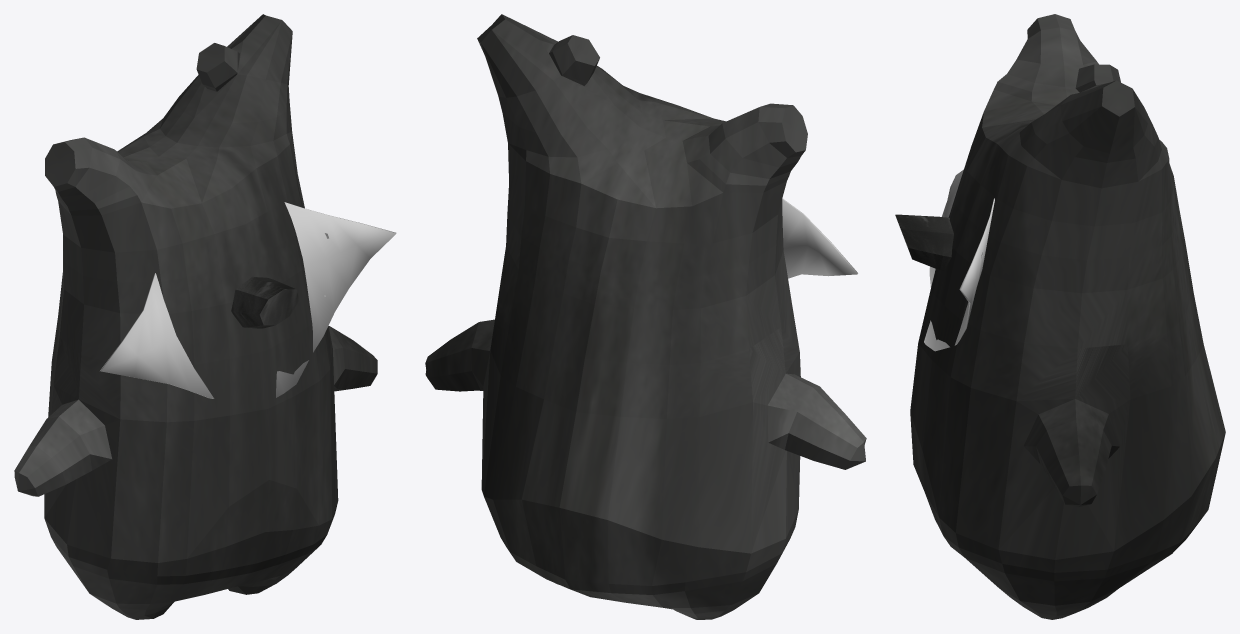
Rendered from frame_0064.obj.
The picture shows the model from 3 angles, left to right: view 1: azimuth 30°, elevation 25°; view 2: azimuth 150°, elevation 25°; view 3: azimuth 270°, elevation 25°; orthographic projection. The views are drawn at different scales.
Visible parts, largest first — view 1: korok, leaf, nose; view 2: korok, leaf; view 3: korok, nose, leaf.
Boxes of the visible parts, x1=… form: korok: x1=14, y1=14, x2=377, y2=619; leaf: x1=100, y1=202, x2=396, y2=398; nose: x1=231, y1=276, x2=298, y2=328; korok: x1=425, y1=14, x2=866, y2=619; leaf: x1=782, y1=198, x2=857, y2=278; korok: x1=910, y1=14, x2=1225, y2=619; nose: x1=895, y1=214, x2=953, y2=271; leaf: x1=924, y1=169, x2=994, y2=351.
Bounding box in the file's own units: 1.69 × 2.28 × 1.22.
